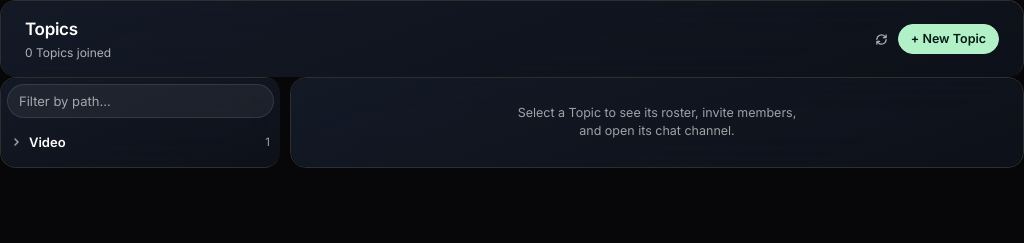
Test case: QURATOR-144 W2 — claimed count is detail-only and lazy › a row whose count a prior topicRank fold already supplied is not re-ranked on selection
Step 1. Click the button with class "root-header" → (47, 142), box [7,124,274,161]
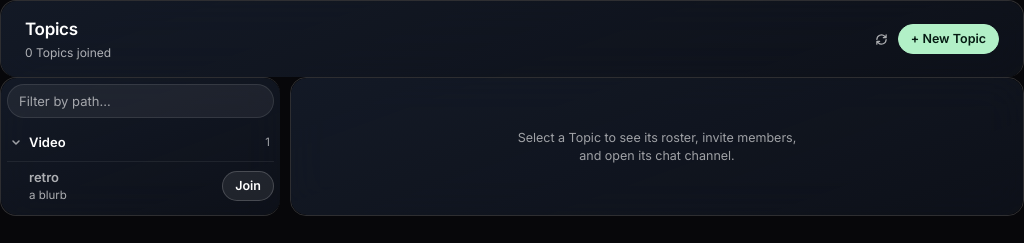
Check: the text "retro" is shown, box [29,169,59,185]
Step 2. Click the button with class "name" → (48, 195), box [7,161,274,209]
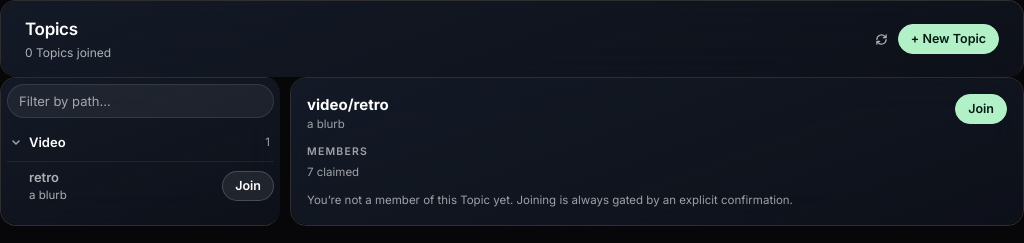
Check: the text "7 claimed" is shown, box [307,165,359,179]
